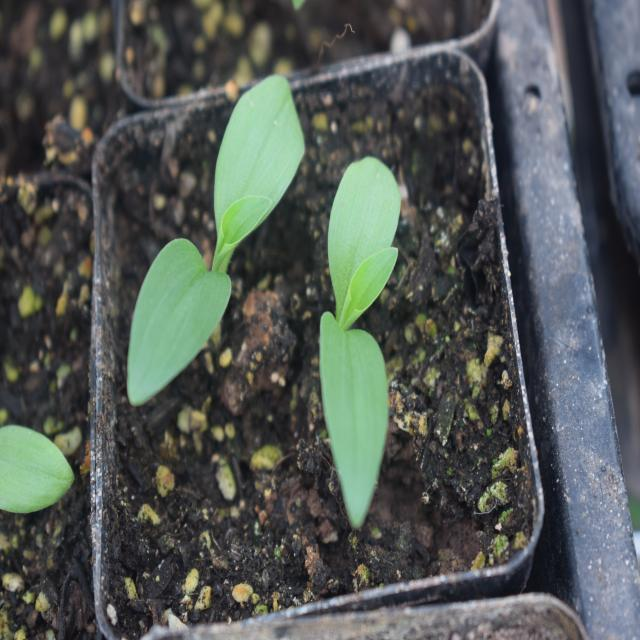Common Dayflower: (121, 83, 310, 404), (312, 162, 412, 524)
